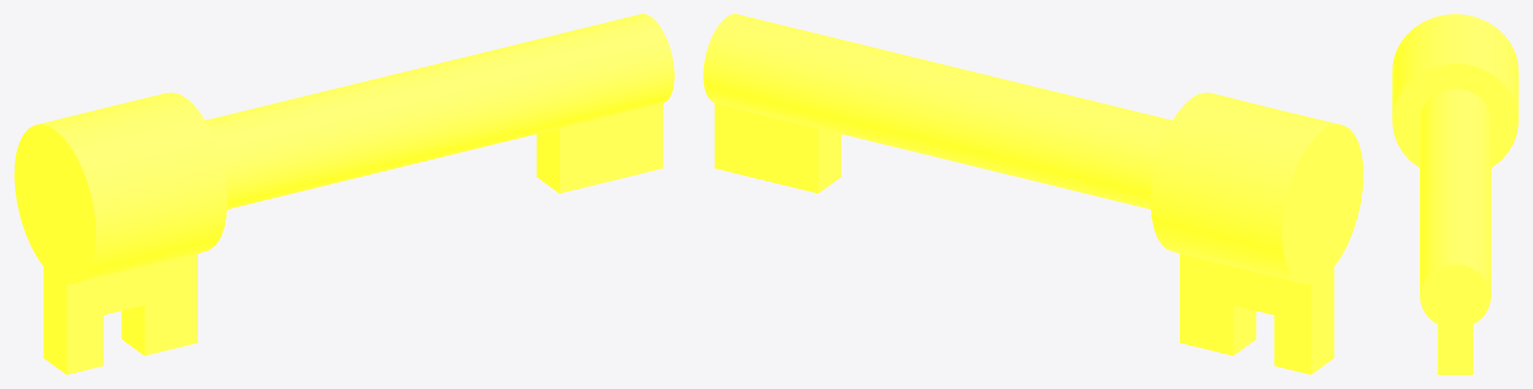
Rendered from clef2ajaune.gltf.
3 views of the same model, side by side, from view 1: azimuth 30°, elevation 25°; view 2: azimuth 150°, elevation 25°; view 3: azimuth 270°, elevation 25° (orthographic). The views are drawn at different scales.
Parts seen in each view (by area): view 1: cle; view 2: cle; view 3: cle.
Boxes of the visible parts, box(x1,y1,x2,y2) form: cle: box(14, 14, 674, 374); cle: box(703, 14, 1363, 374); cle: box(1392, 14, 1518, 374).
Size of the model in its own units: 0.15 by 0.0568 by 0.0356.
